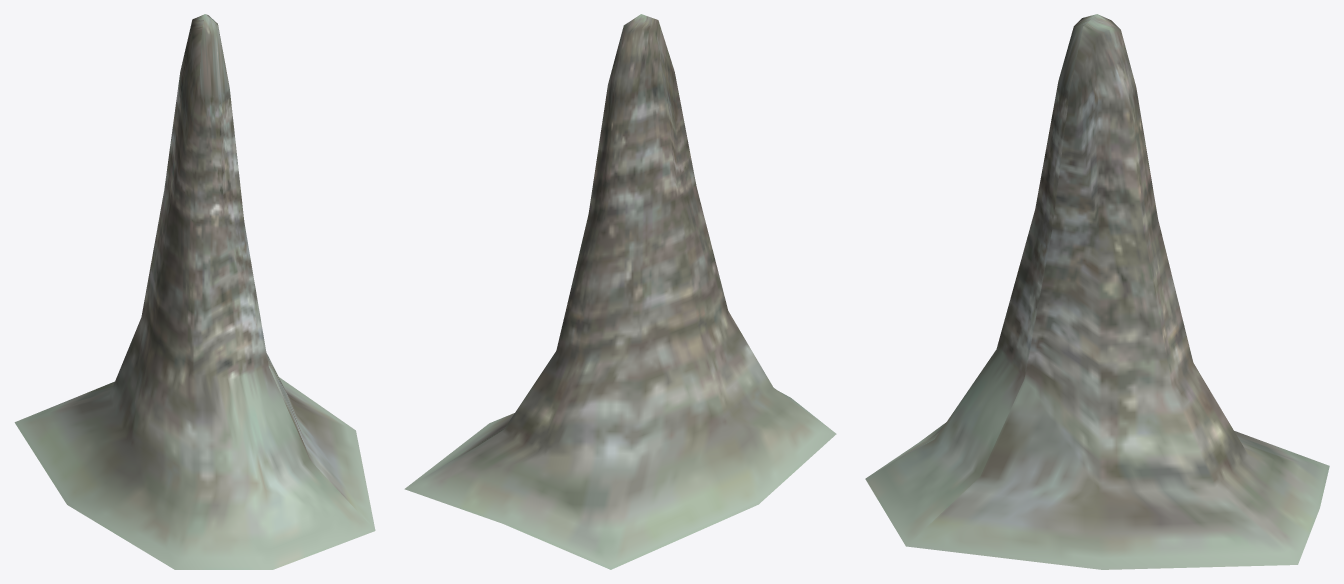
The model's file is TROLLHOLE02_PS-UPPERSTALAG03.fbx.
3 views of the same model, side by side, from view 1: azimuth 30°, elevation 25°; view 2: azimuth 150°, elevation 25°; view 3: azimuth 270°, elevation 25° (orthographic). The views are drawn at different scales.
Visible parts, largest first — view 1: TROLLHOLE02_PS-UPPERSTALAG03; view 2: TROLLHOLE02_PS-UPPERSTALAG03; view 3: TROLLHOLE02_PS-UPPERSTALAG03.
Part boxes in pixels (box(x1,y1,x2,y2)): TROLLHOLE02_PS-UPPERSTALAG03: box(14, 14, 375, 569); TROLLHOLE02_PS-UPPERSTALAG03: box(404, 14, 836, 569); TROLLHOLE02_PS-UPPERSTALAG03: box(865, 14, 1329, 569).
Bounding box in the file's own units: 11152 × 17724 × 15148.
1 material, 1 textured.
